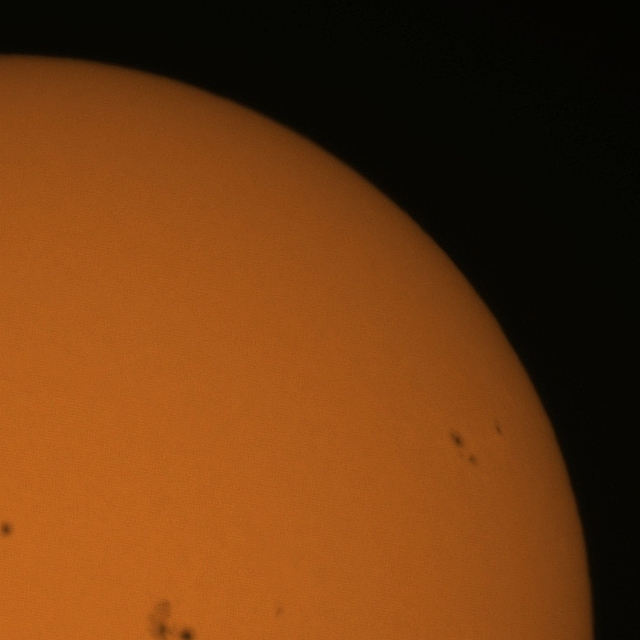sunspot: (0, 519, 14, 541), (466, 454, 478, 467)
